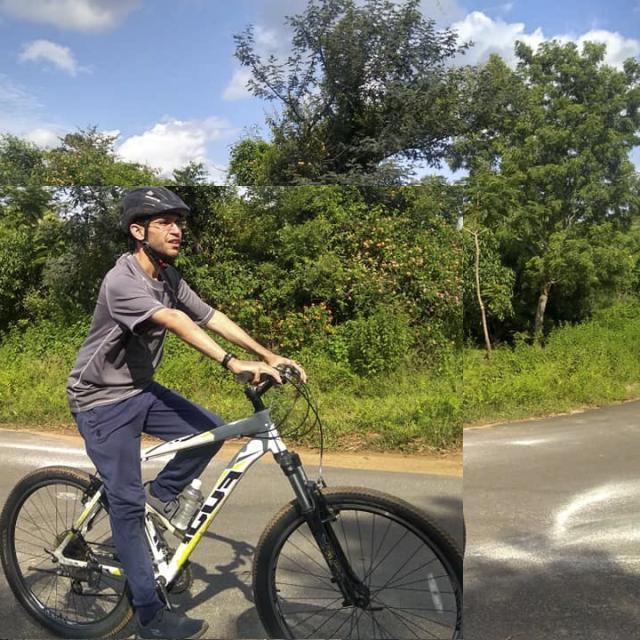bicycle: (0, 186, 463, 640)
